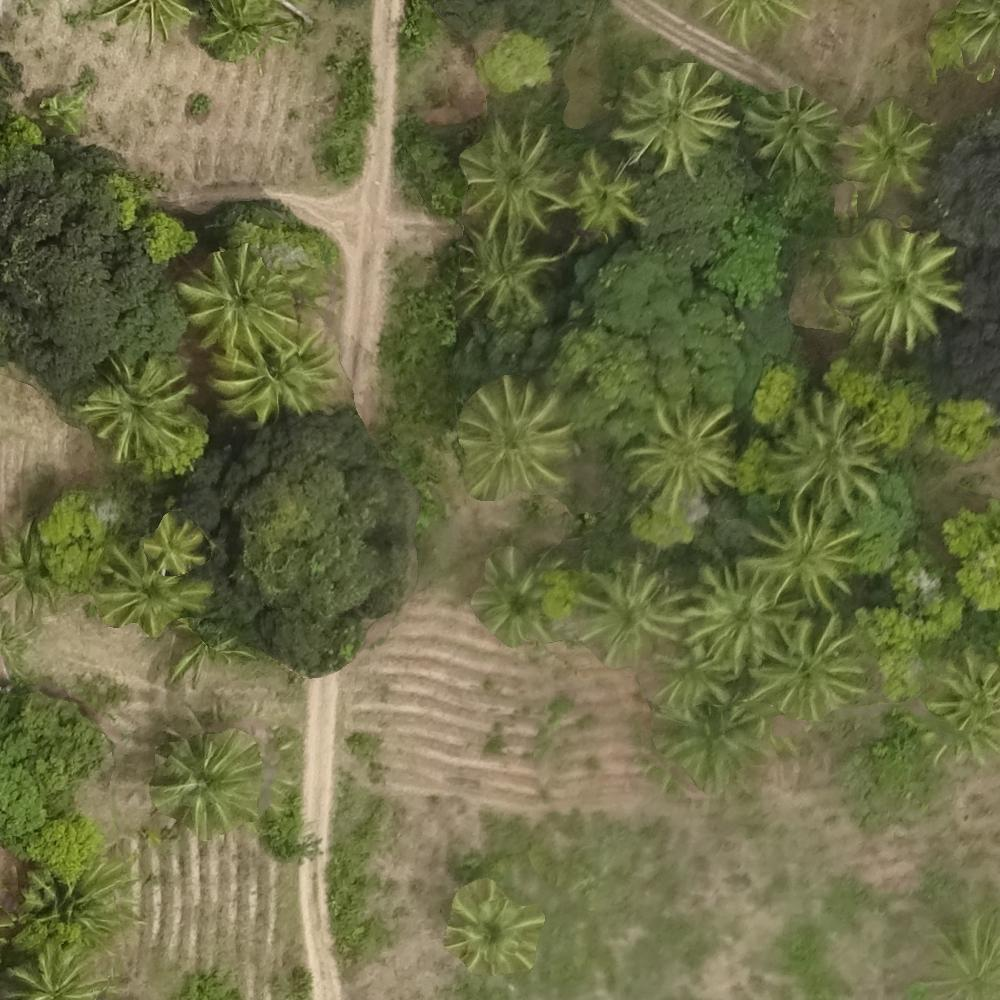Palm: (767, 393, 888, 514), (836, 230, 953, 345), (180, 249, 299, 356), (681, 566, 794, 674), (620, 64, 731, 168), (741, 504, 852, 607), (78, 358, 184, 465), (749, 619, 863, 716), (458, 126, 560, 233), (463, 385, 565, 492), (632, 402, 733, 502), (451, 229, 552, 328), (575, 559, 677, 657), (157, 734, 255, 833), (100, 542, 205, 634), (213, 340, 332, 419), (742, 90, 837, 178), (842, 109, 933, 199), (30, 861, 125, 946), (471, 550, 559, 640), (451, 892, 536, 973), (566, 155, 638, 234), (138, 514, 205, 573)
